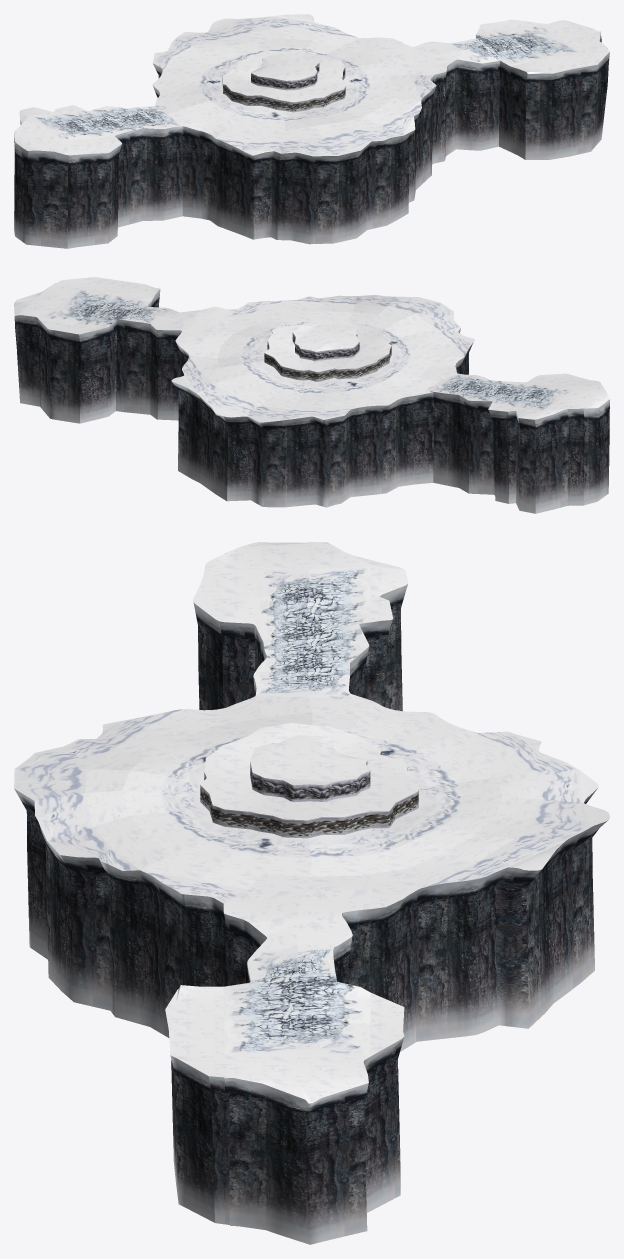
3 renders of one model, top to bottom at view 1: azimuth 30°, elevation 25°; view 2: azimuth 150°, elevation 25°; view 3: azimuth 270°, elevation 25°, orthographic. The views are drawn at different scales.
Visible parts, largest first — view 1: Cylinder01; view 2: Cylinder01; view 3: Cylinder01.
Part boxes in pixels (x1=…): Cylinder01: x1=14, y1=14, x2=609, y2=248; Cylinder01: x1=14, y1=277, x2=609, y2=513; Cylinder01: x1=14, y1=542, x2=609, y2=1244.
Bounding box in the file's own units: 4278 × 886 × 2152.
